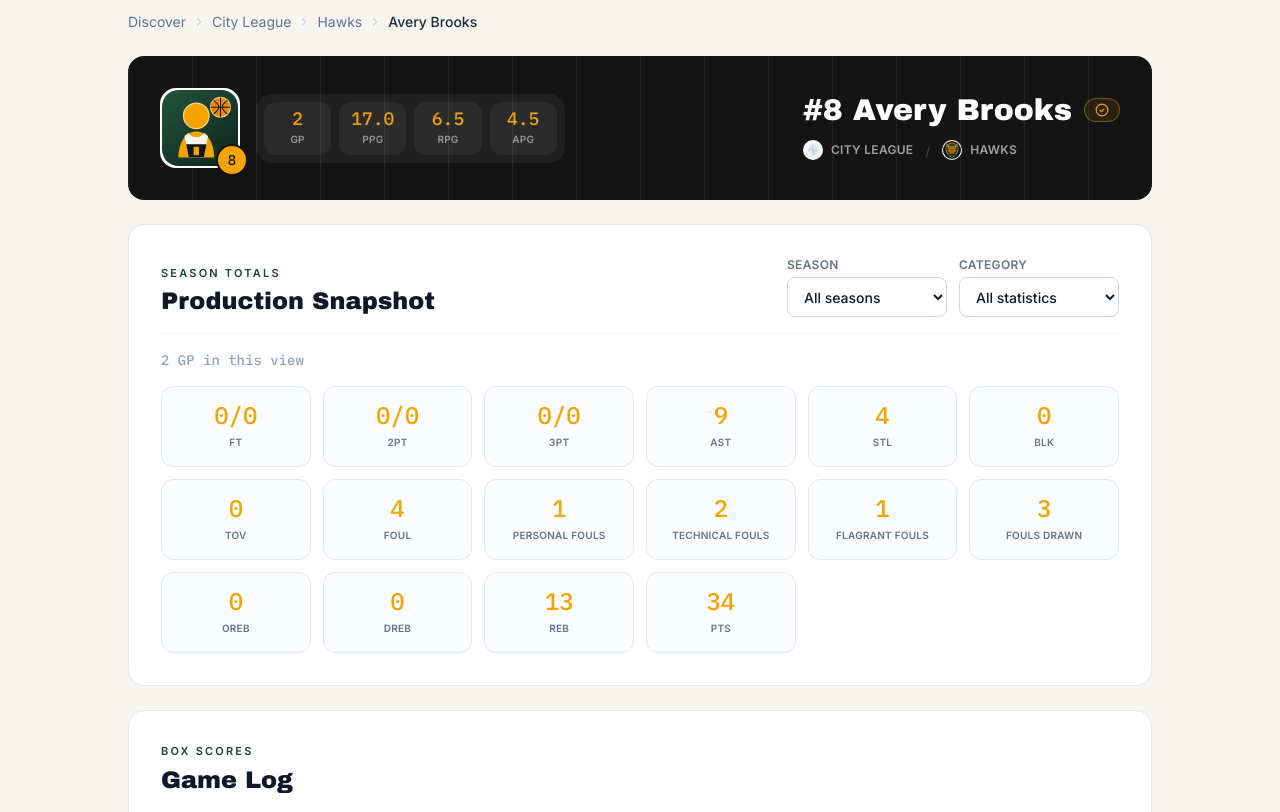
Test: PublicLeaguePlayerPage statistics filters › shows typed and drawn foul totals and filters them by season
Check: the text "Technical fouls" shows "2", box [714,492,728,524]
Check: the text "Fouls drawn" shows "3", box [1037,492,1051,524]
Select "2025 Spring" in the dropdown labelled "Season" at {"x": 867, "y": 297}, box [787,277,947,317]
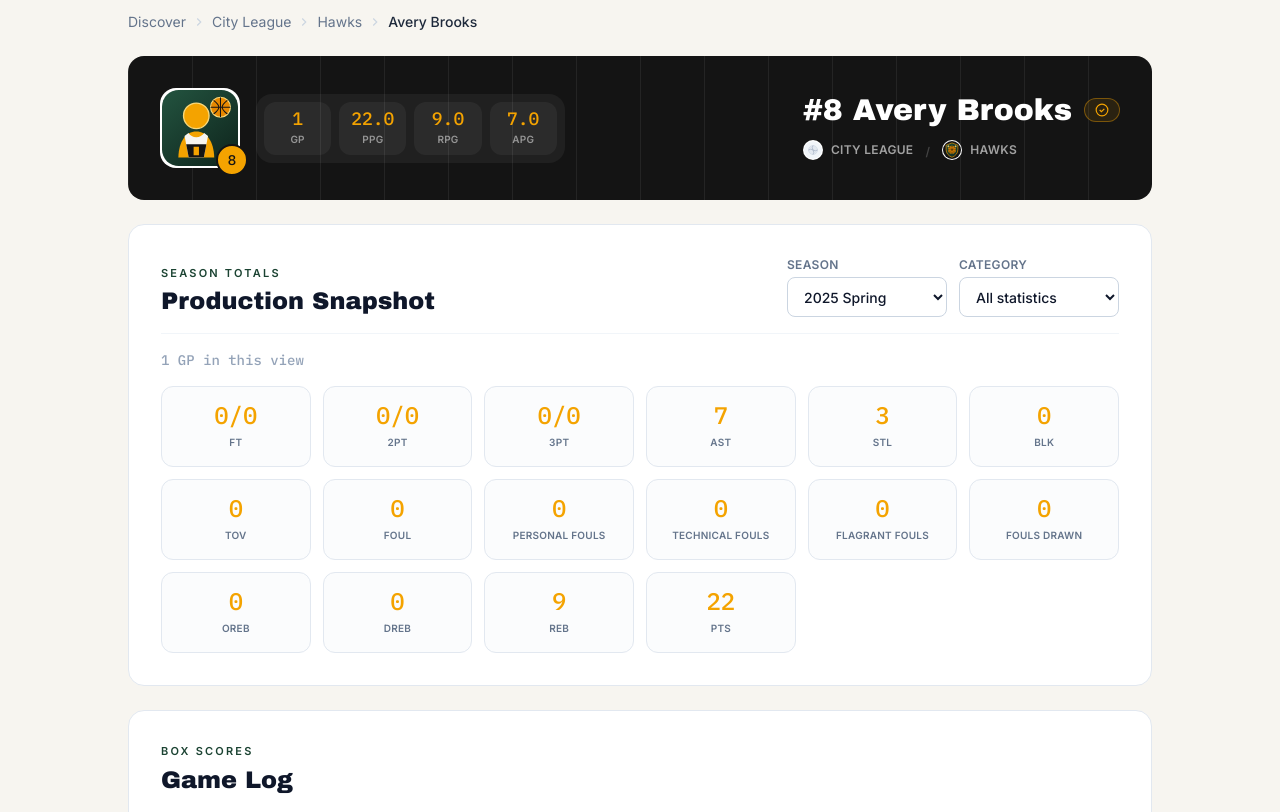
Check: the text "Fouls drawn" shows "0", box [1037,492,1051,524]
